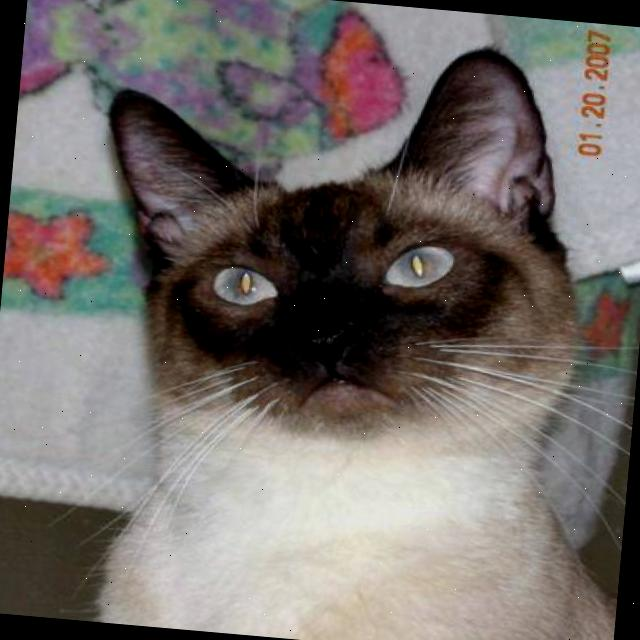cat-eye-normal: (364, 232, 470, 300), (194, 252, 296, 318)
